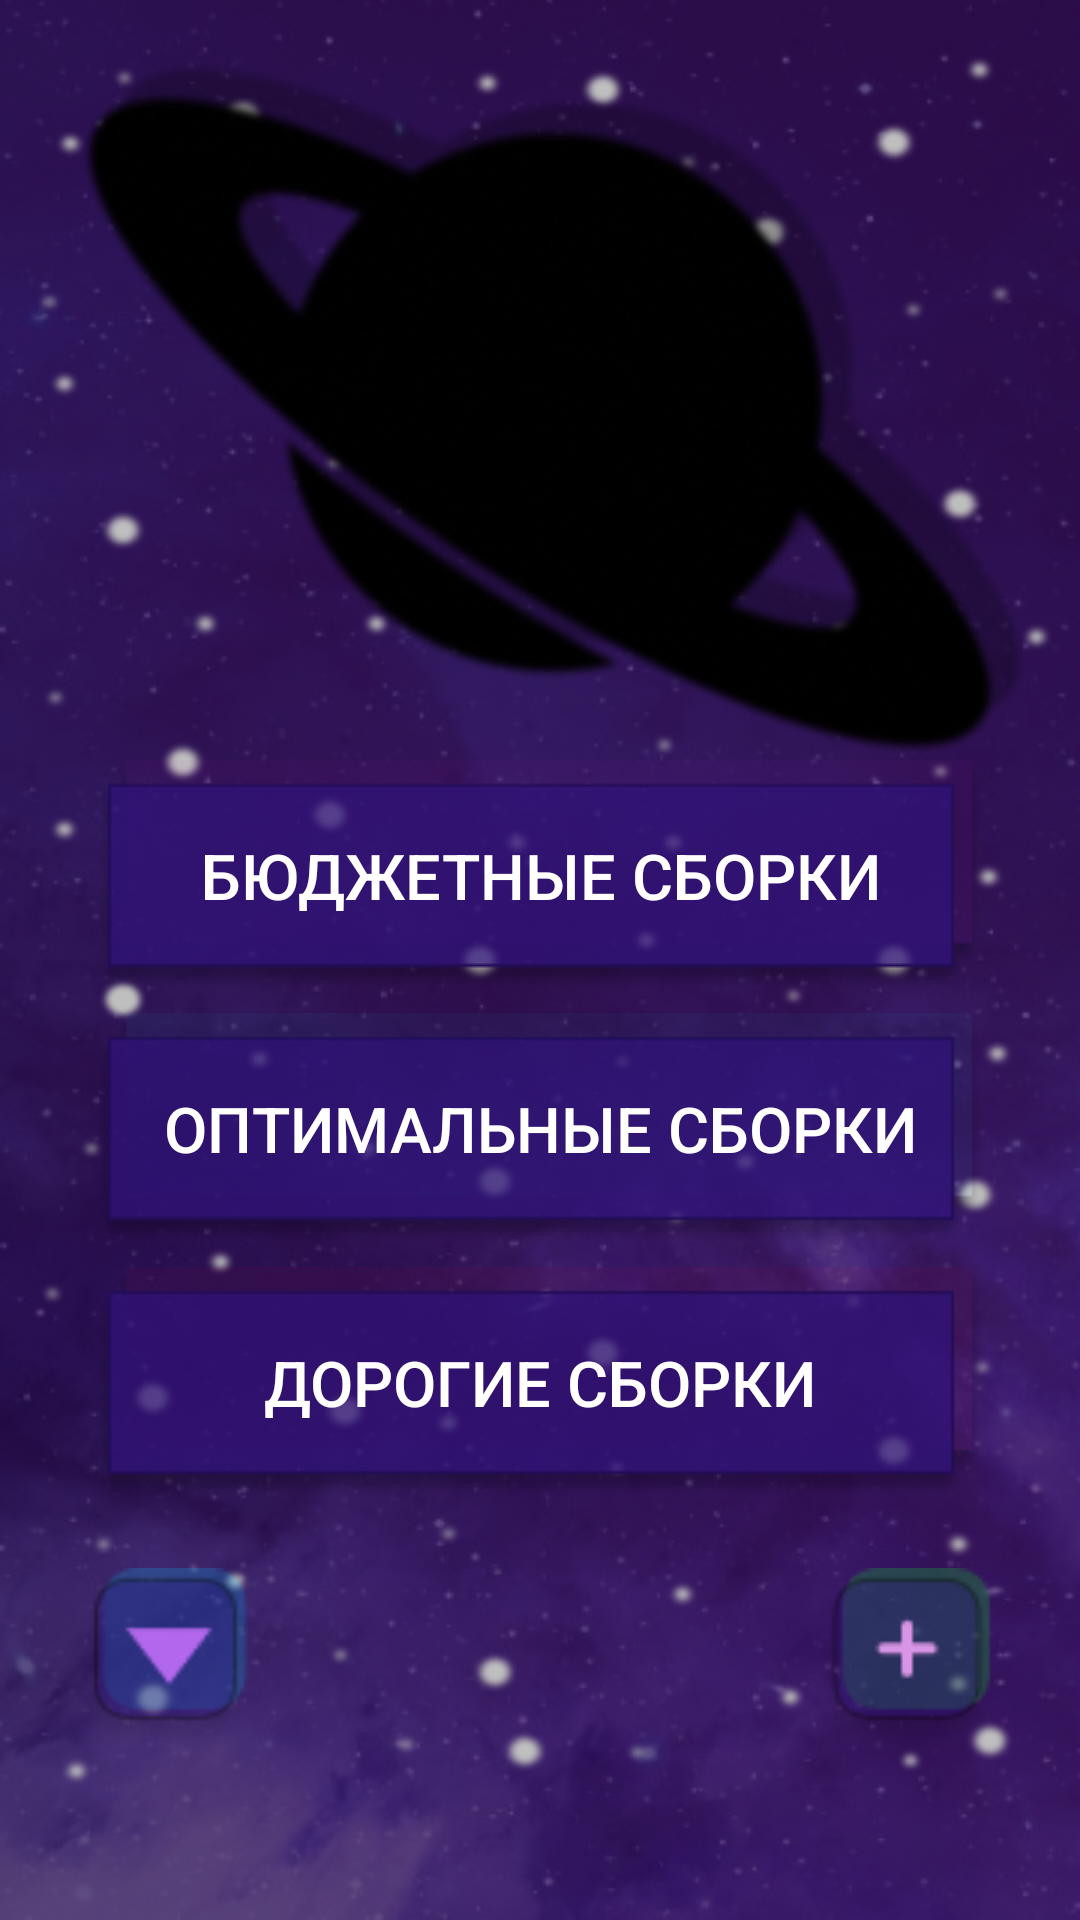

Locate icon controls on the screen. Image size 1080x1920, boxes as (x1,y1,x2,y2).
plus: (835,1568,997,1720)
